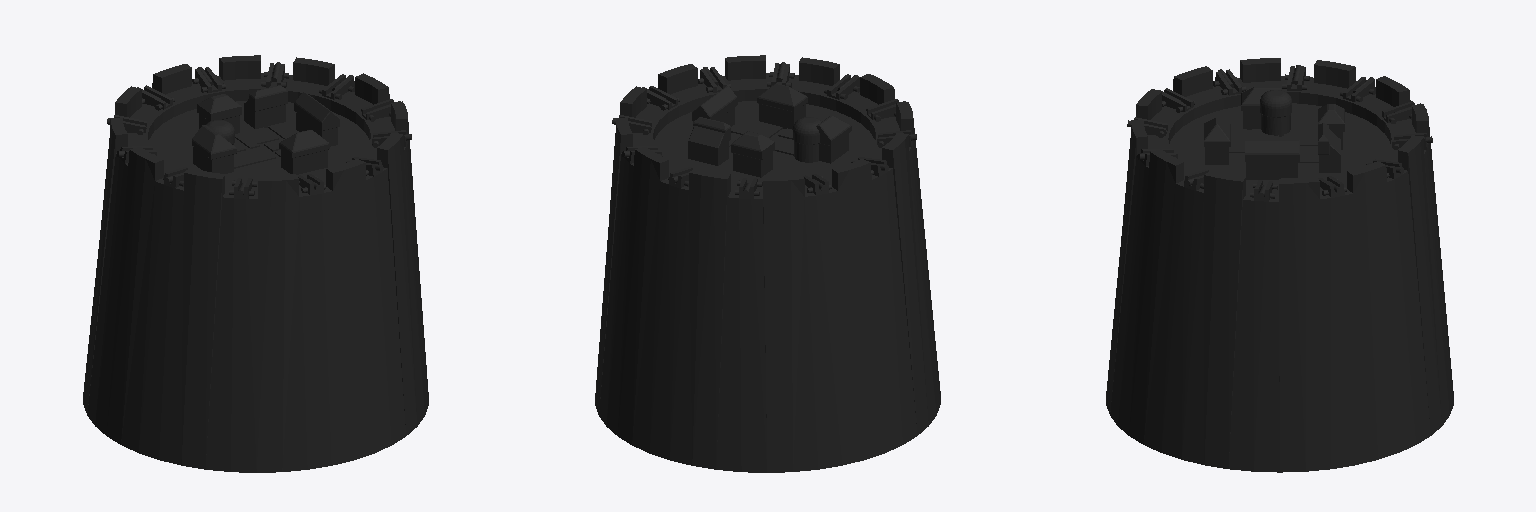
File: Fort.obj
3 renders of one model, left to right at view 1: azimuth 30°, elevation 25°; view 2: azimuth 150°, elevation 25°; view 3: azimuth 270°, elevation 25°, orthographic.
Visible parts, largest first — view 1: Fort.obj; view 2: Fort.obj; view 3: Fort.obj.
Boxes of the visible parts, x1,y1,x2,y2 form: Fort.obj: [83, 55, 428, 472]; Fort.obj: [595, 55, 940, 472]; Fort.obj: [1106, 58, 1453, 472].
Size of the model in its own units: 0.8839 by 0.8104 by 0.889.